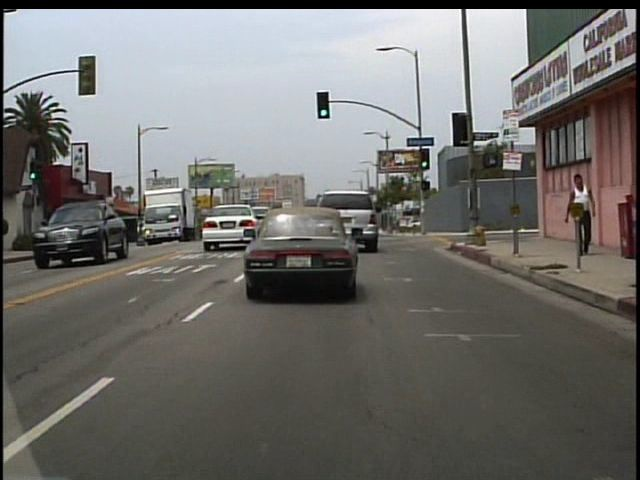person: (565, 171, 595, 259)
